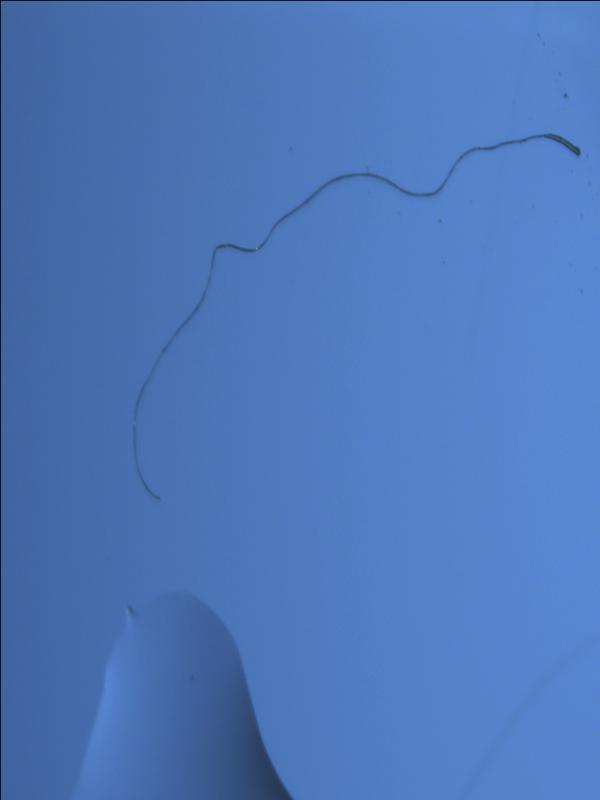microplastic: (130, 127, 581, 502)
